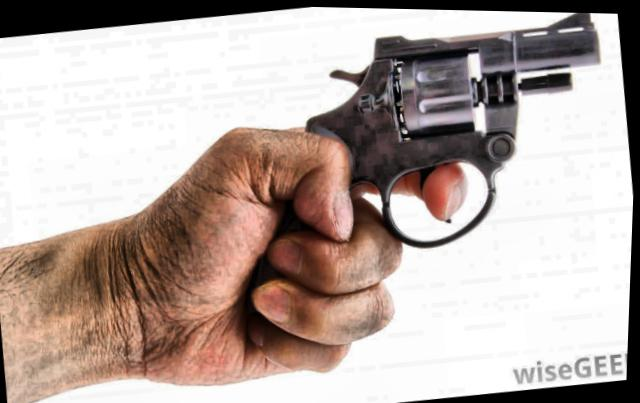pistol: (210, 4, 630, 323)
